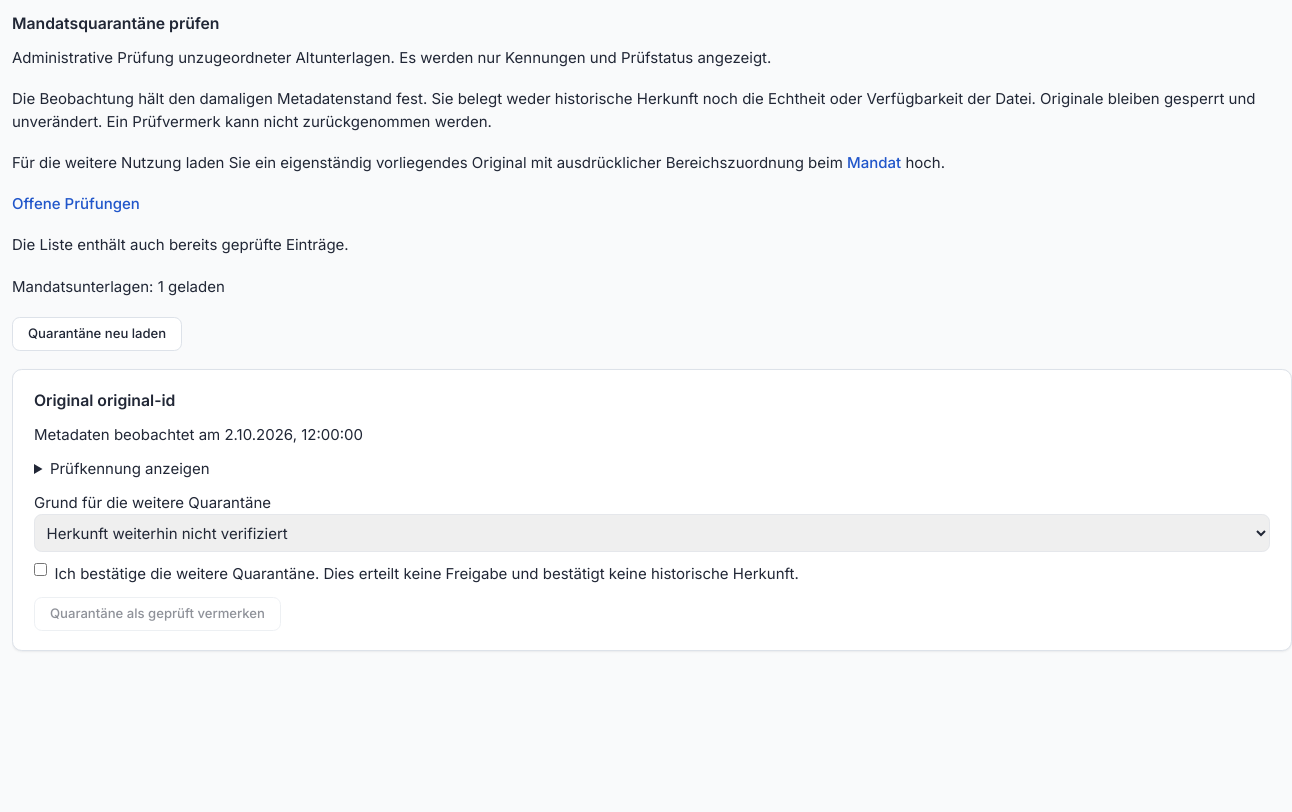
Test: requires explicit confirmation and reuses the request key after a lost response
The image size is (1292, 812).
Expected: the text "Mandatsunterlagen: 1 geladen" is shown, [12,277,225,296]
Expected: the button "Quarantäne als geprüft vermerken" is disabled, [34,597,281,631]
Click the checkbox at x=40, y=570, box [34,563,47,576]
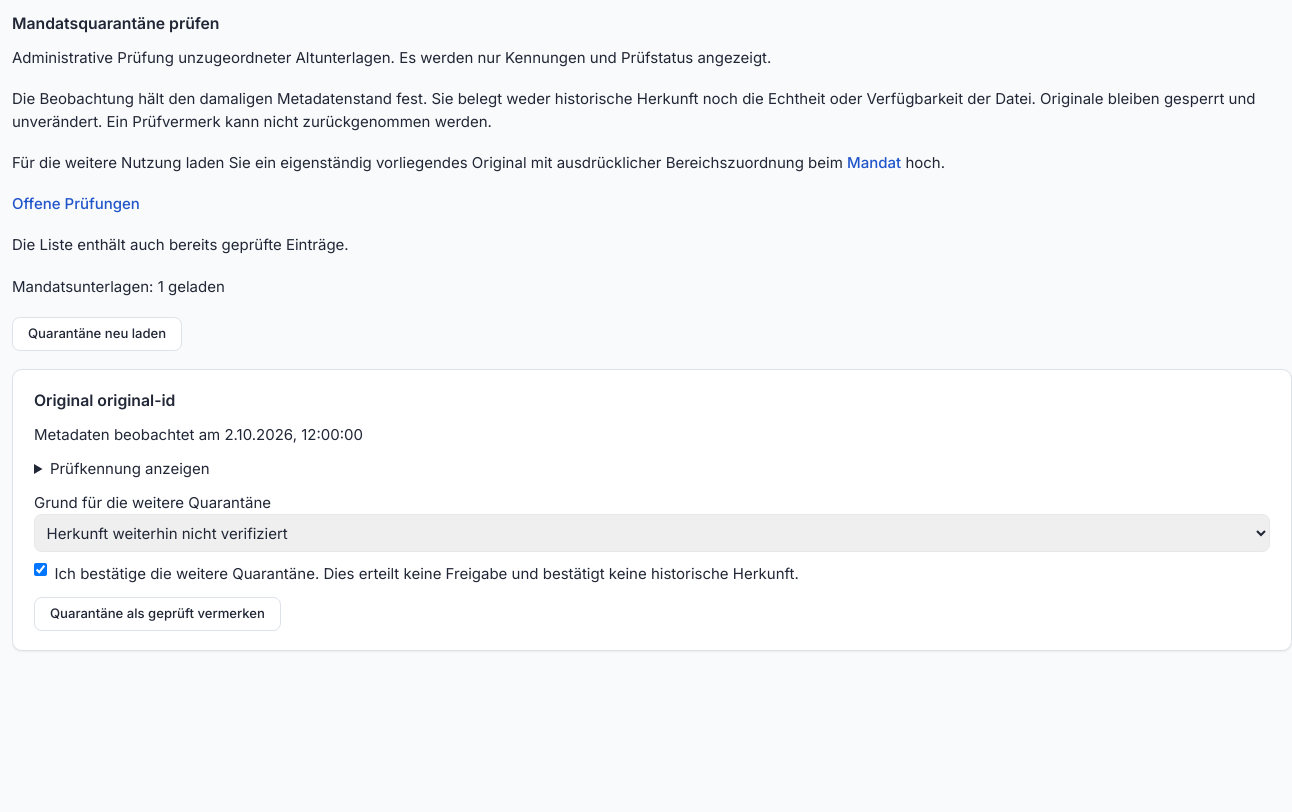
Click the button "Quarantäne als geprüft vermerken" at x=157, y=614, box [34,597,281,631]
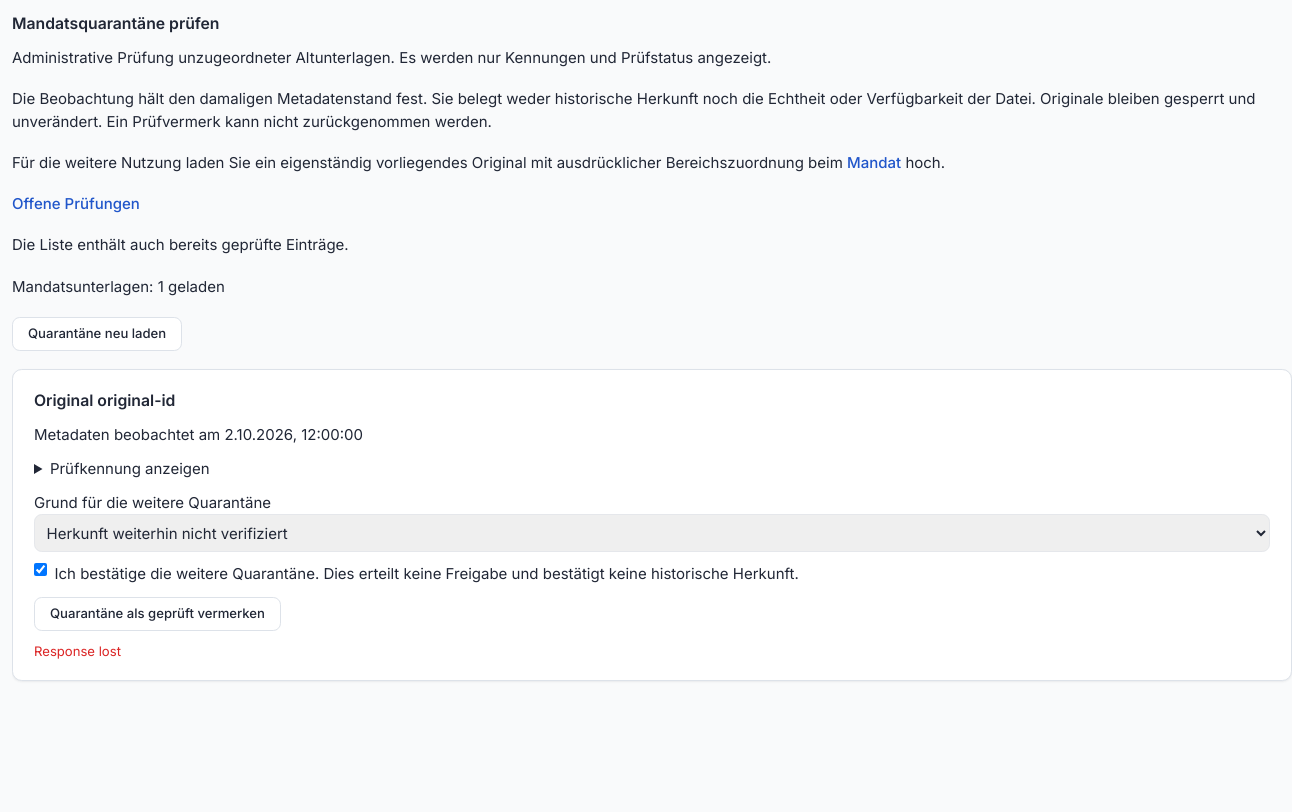
Now the message "Response lost" is shown, box [34,643,121,659]
Click the button "Quarantäne als geprüft vermerken" at x=157, y=614, box [34,597,281,631]
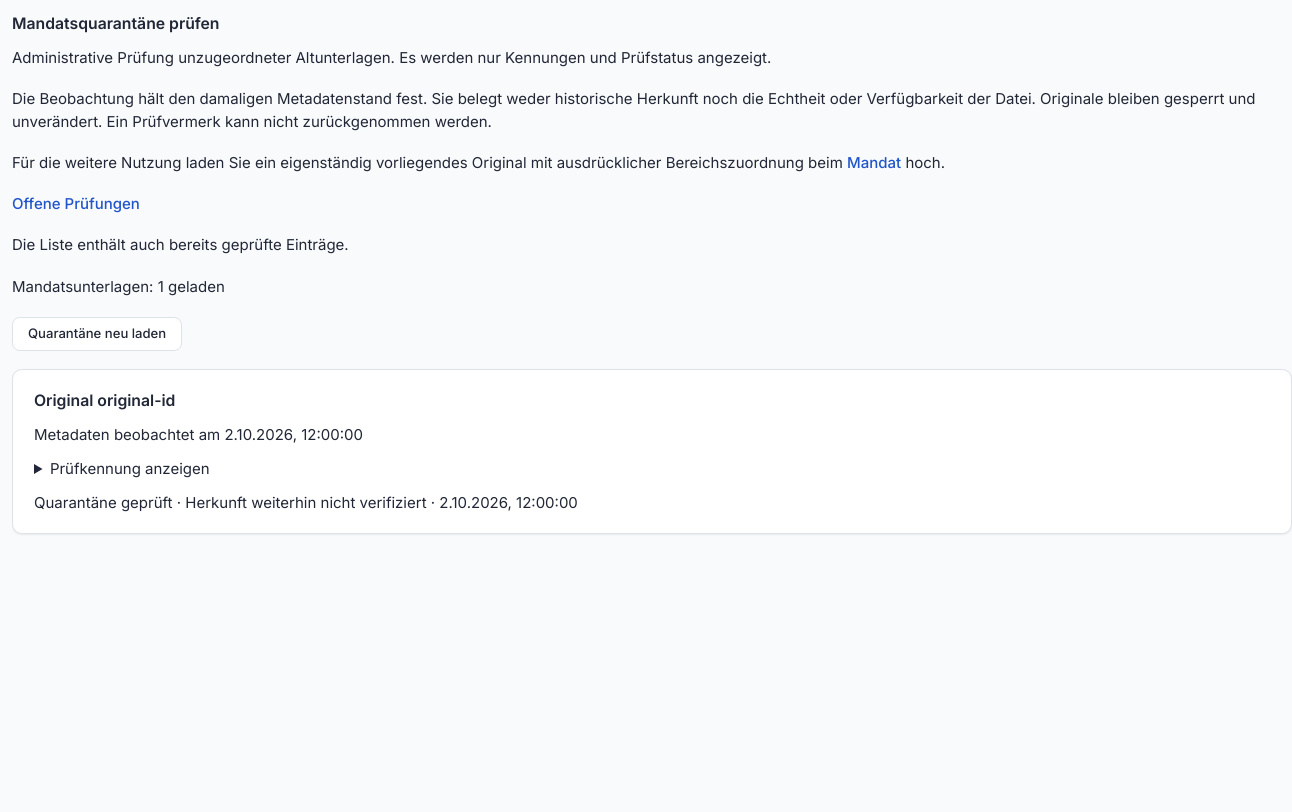
Now the text "Quarantäne geprüft ·" is shown, box [34,492,185,512]
Now the button "Quarantäne als geprüft vermerken" is gone
